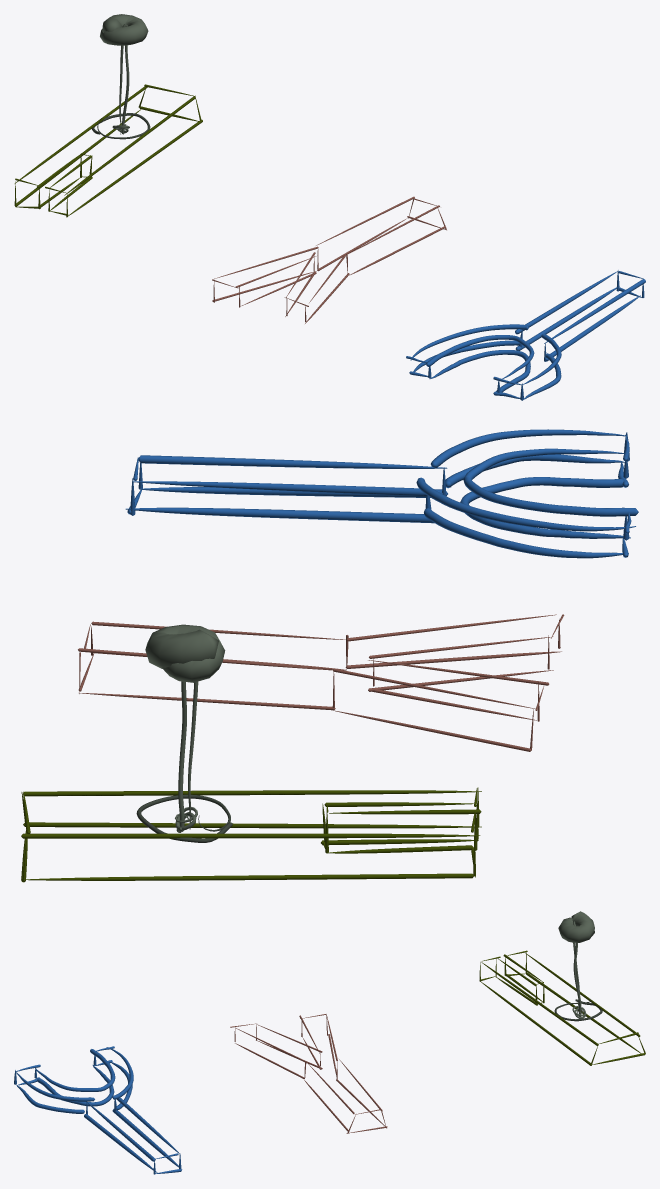
The picture shows the model from 3 angles, top to bottom: view 1: azimuth 30°, elevation 25°; view 2: azimuth 150°, elevation 25°; view 3: azimuth 270°, elevation 25°; orthographic projection. The views are drawn at different scales.
Parts seen in each view (by area): view 1: Toon_geo; view 2: Toon_geo; view 3: Toon_geo.
Boxes of the visible parts, bbox=[...] form: Toon_geo: bbox=[14, 14, 645, 400]; Toon_geo: bbox=[21, 429, 638, 882]; Toon_geo: bbox=[14, 911, 645, 1174].
Bounding box in the file's own units: 1.97 × 0.7659 × 3.02.
